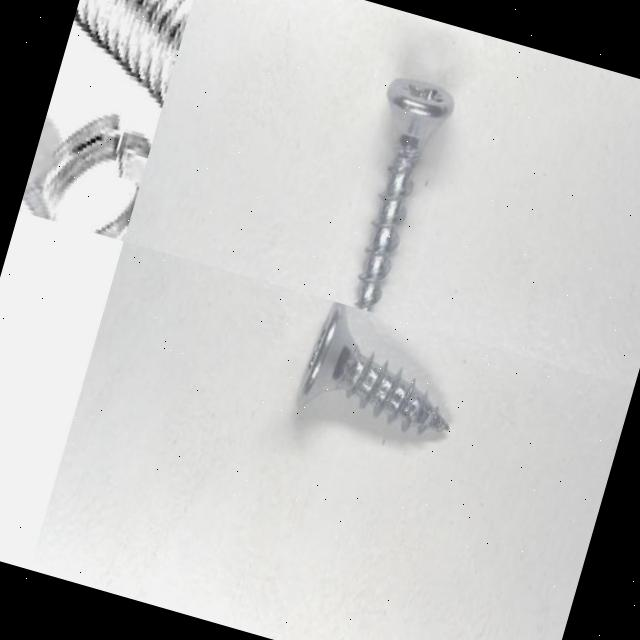Screw: (291, 298, 474, 452), (357, 77, 453, 312), (72, 0, 192, 110)
